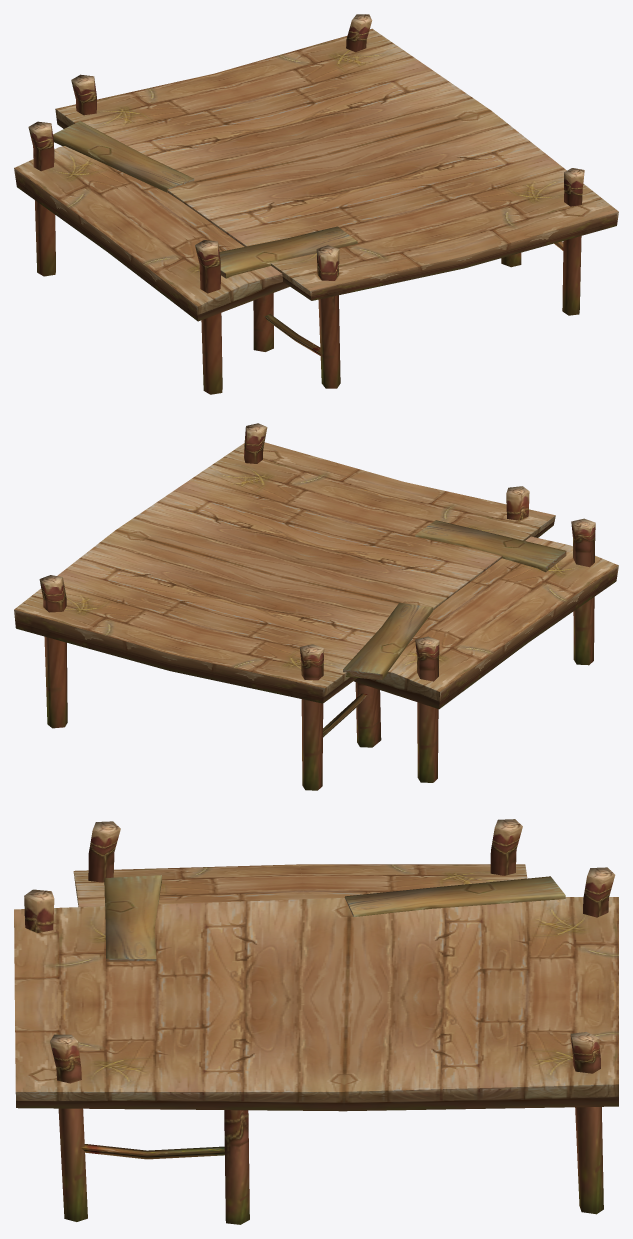
Rendered from h5_matou.FBX.
3 views of the same model, one above another, from view 1: azimuth 30°, elevation 25°; view 2: azimuth 150°, elevation 25°; view 3: azimuth 270°, elevation 25° (orthographic). The views are drawn at different scales.
Visible parts, largest first — view 1: h5_matou; view 2: h5_matou; view 3: h5_matou.
Boxes of the visible parts, left/top/right/bottom form: h5_matou: left=14, top=14, right=618, bottom=394; h5_matou: left=14, top=423, right=618, bottom=790; h5_matou: left=14, top=819, right=618, bottom=1224.
Size of the model in its own units: 9.98 by 3.4 by 10.49.
1 material, 1 textured.
